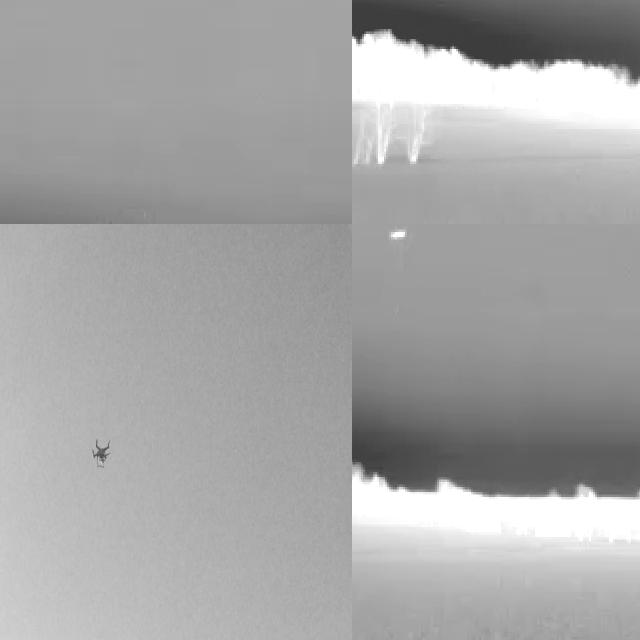0: (77, 218, 107, 224)
1: (382, 224, 414, 255)
drone: (88, 434, 114, 474)
